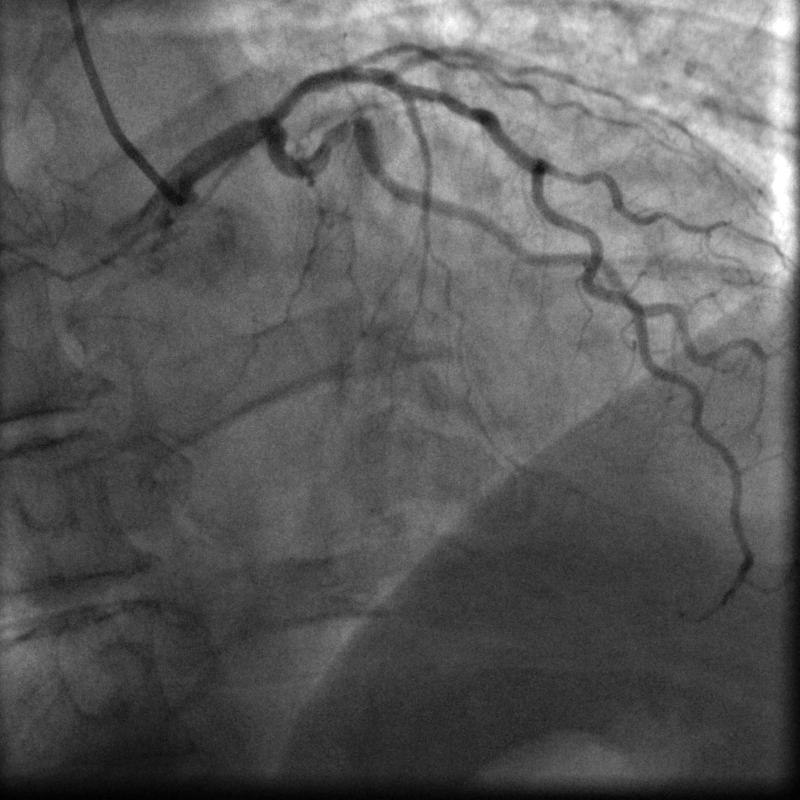Stenosis: (322, 111, 375, 143)
